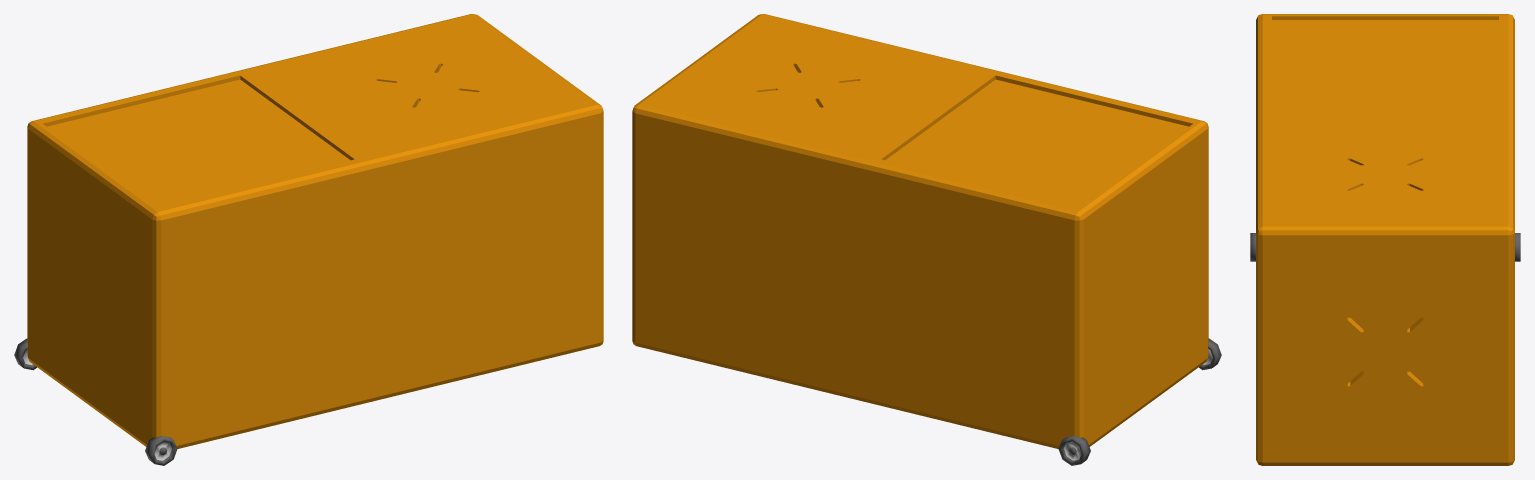
Rendered from Box_VIS.dae.
The picture shows the model from 3 angles, left to right: view 1: azimuth 30°, elevation 25°; view 2: azimuth 150°, elevation 25°; view 3: azimuth 270°, elevation 25°; orthographic projection.
Visible parts, largest first — view 1: Box_VIS; view 2: Box_VIS; view 3: Box_VIS.
Boxes of the visible parts, x1,y1,x2,y2 form: Box_VIS: [14, 14, 603, 465]; Box_VIS: [632, 14, 1221, 465]; Box_VIS: [1250, 14, 1520, 465].
Size of the model in its own units: 0.9604 by 0.4954 by 0.499.
